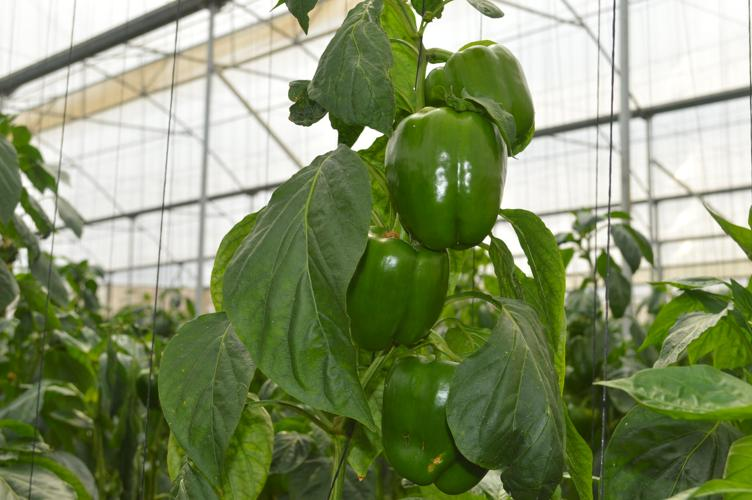BellPepper: (385, 109, 507, 251), (383, 351, 487, 491), (342, 235, 453, 351), (421, 39, 535, 139)
